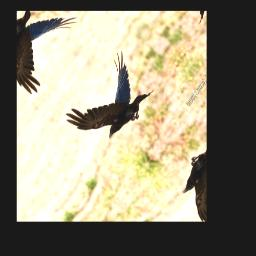Crow: (61, 43, 165, 157)
